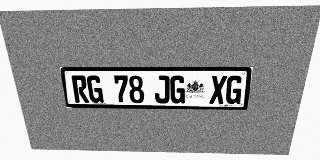7: (113, 75, 129, 103)
8: (128, 75, 144, 103)
G: (225, 75, 244, 104), (86, 75, 104, 103), (170, 75, 186, 103)
J: (154, 75, 170, 103)
R: (71, 75, 89, 103)
X: (209, 75, 227, 104)
